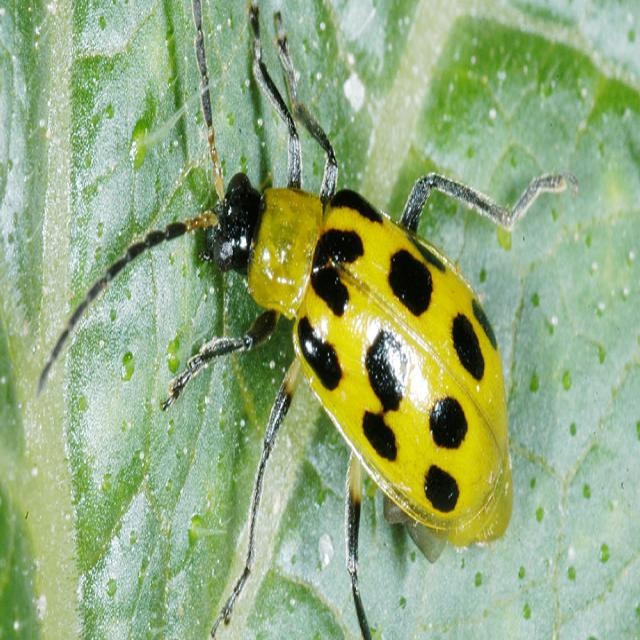cucumber_beetle: (37, 0, 564, 576)
